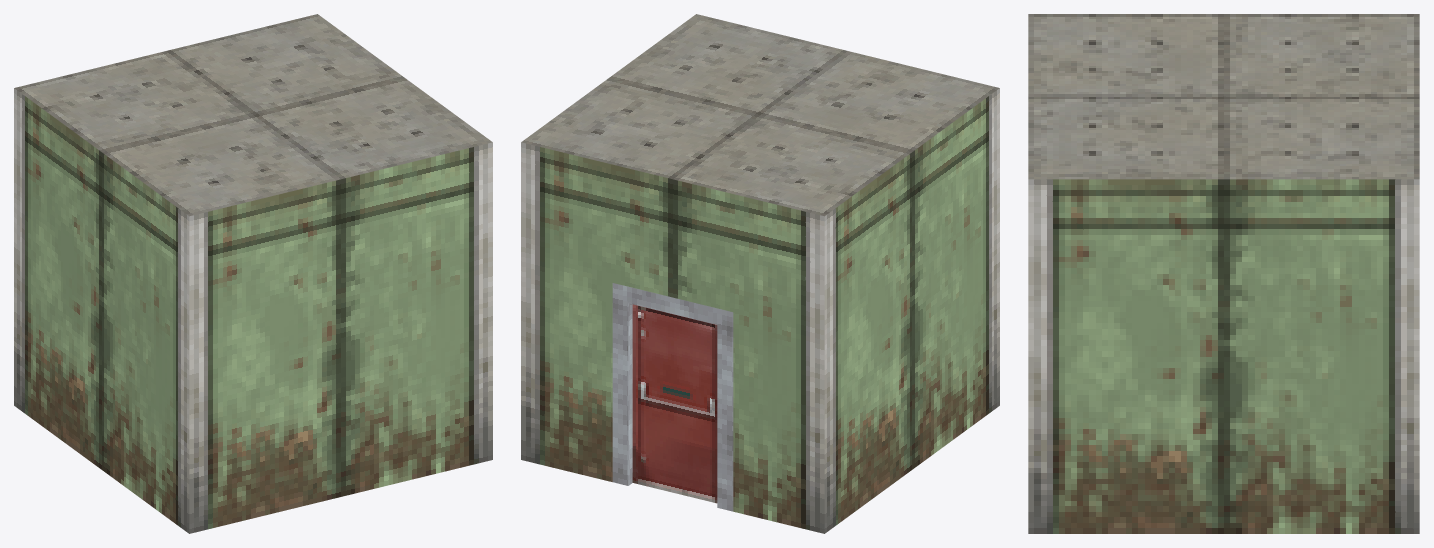
File: wall-b-door.glb
3 renders of one model, left to right at view 1: azimuth 30°, elevation 25°; view 2: azimuth 150°, elevation 25°; view 3: azimuth 270°, elevation 25°, orthographic. The views are drawn at different scales.
Parts seen in each view (by area): view 1: wall-b-door; view 2: wall-b-door; view 3: wall-b-door.
Part boxes in pixels (left/top/right/bottom): wall-b-door: left=14, top=14, right=492, bottom=533; wall-b-door: left=521, top=14, right=999, bottom=533; wall-b-door: left=1028, top=14, right=1419, bottom=533.
Bounding box in the file's own units: 1 × 1 × 1.
Materials: 4 (4 with a texture image).
